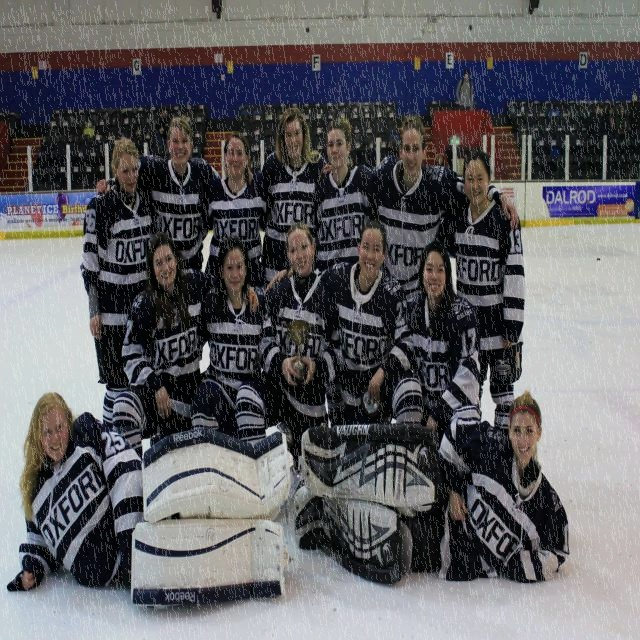pessoa: (300, 387, 579, 589), (317, 110, 520, 308), (264, 218, 424, 427), (118, 230, 259, 444), (7, 391, 142, 595), (434, 148, 527, 442), (94, 115, 256, 276), (79, 137, 154, 436), (257, 221, 345, 464), (190, 234, 268, 448), (402, 238, 482, 439), (256, 105, 327, 291), (197, 130, 275, 290), (311, 118, 378, 274), (588, 92, 640, 152), (374, 131, 404, 160), (456, 67, 474, 111), (155, 107, 171, 150), (133, 127, 147, 149)
